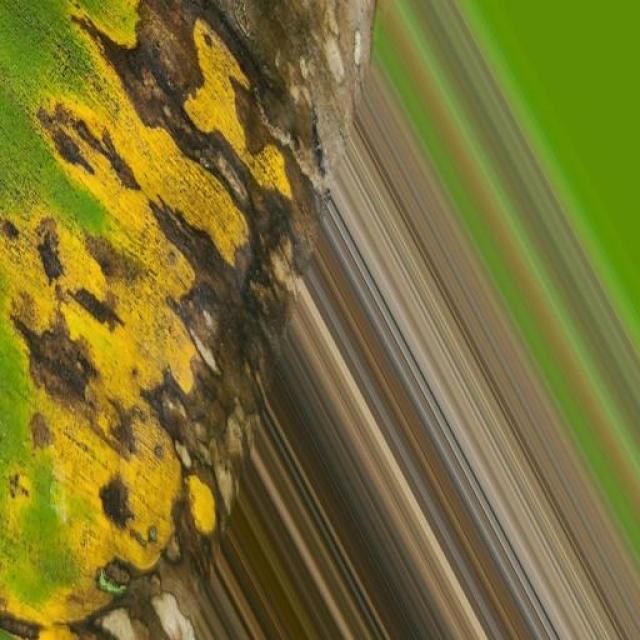Early_rust: (0, 0, 408, 640)
